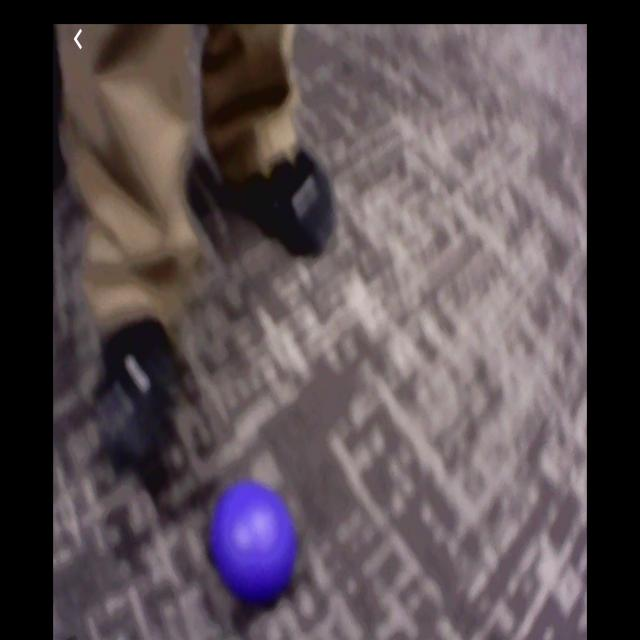ball: (209, 483, 296, 602)
